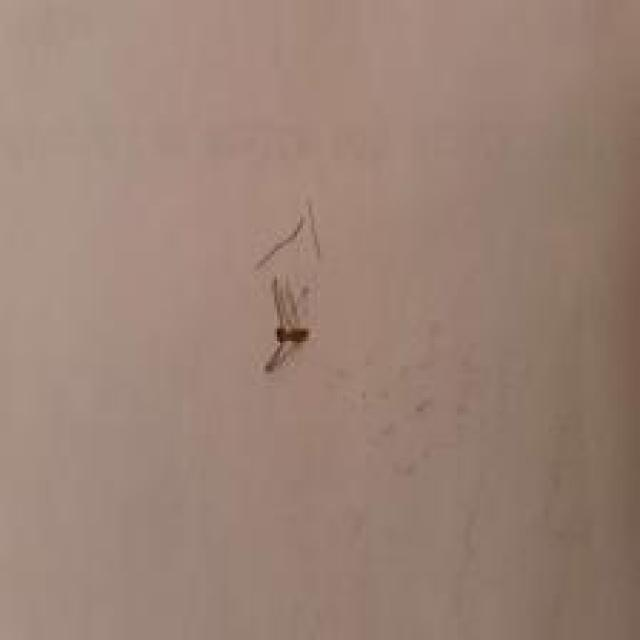Culex: (253, 194, 324, 374)
